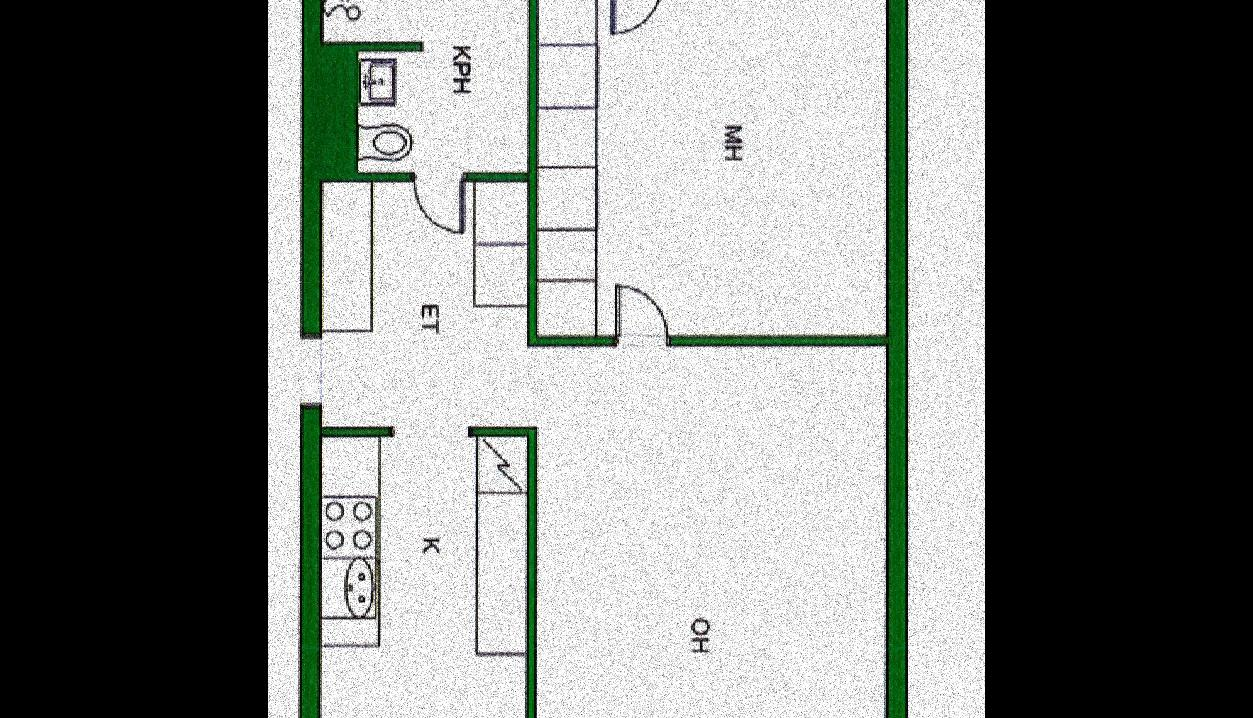zone: (316, 179, 887, 718), (539, 0, 890, 334), (323, 436, 527, 718), (320, 0, 529, 165), (610, 280, 670, 352), (409, 170, 462, 236), (607, 0, 659, 35)
